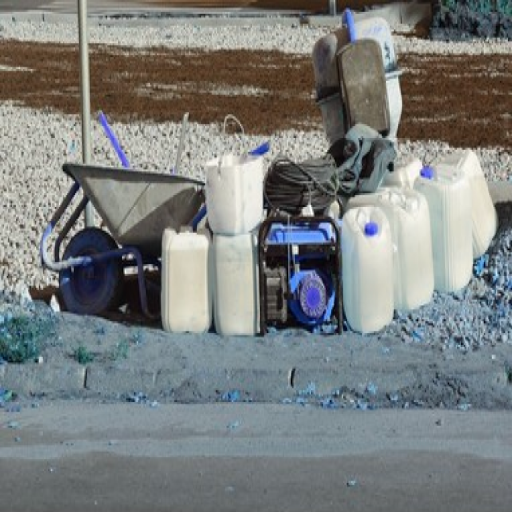portable_generator: (258, 216, 344, 338)
